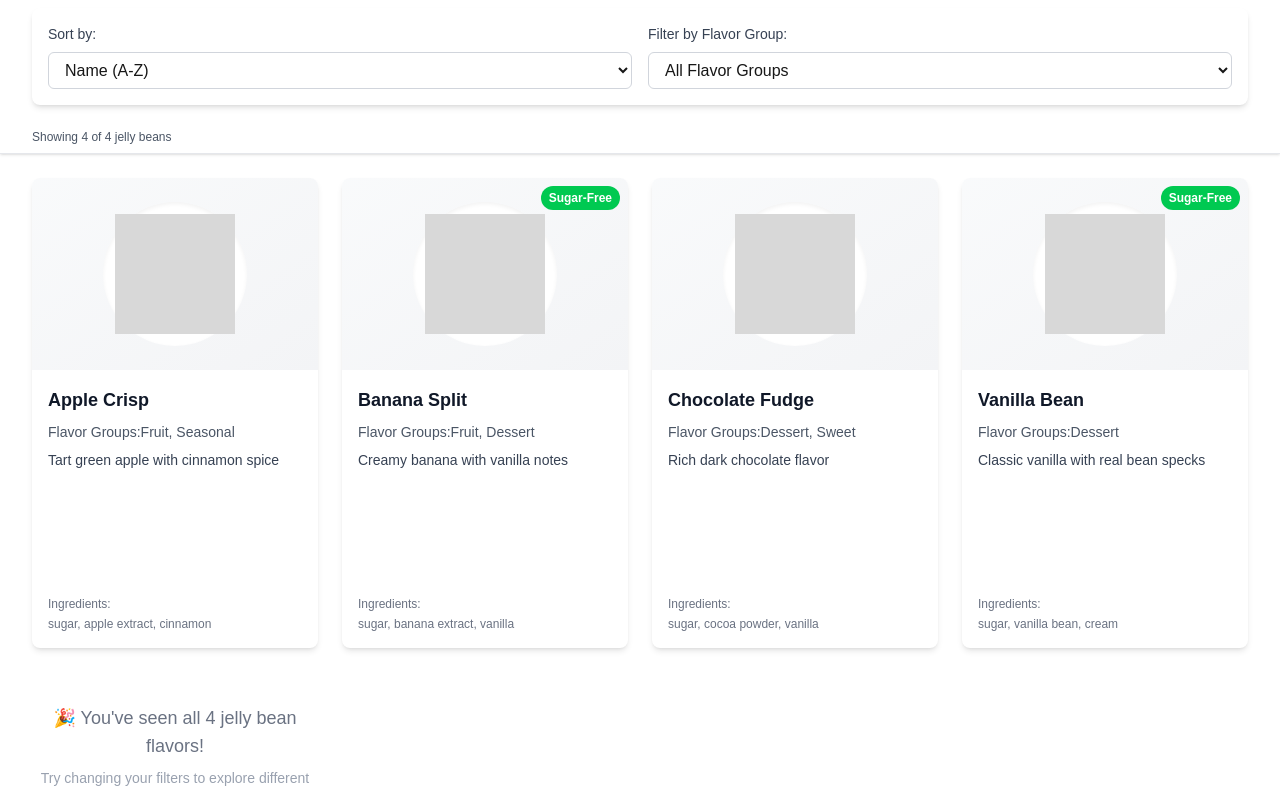
Test case: InfiniteJellyBeanList Integration Tests › Real Component Integration › handles real sorting with actual component behavior
Expected: the element that starts with "Apple Crisp" is shown, [48, 390, 149, 410]
Expected: the element that starts with "Sugar-Free" shows "Banana Split", [358, 390, 467, 410]
# Change sort to Z-A
Select "Name (Z-A)" in the dropdown labelled "Sort by:" at (340, 70), box [48, 52, 632, 89]
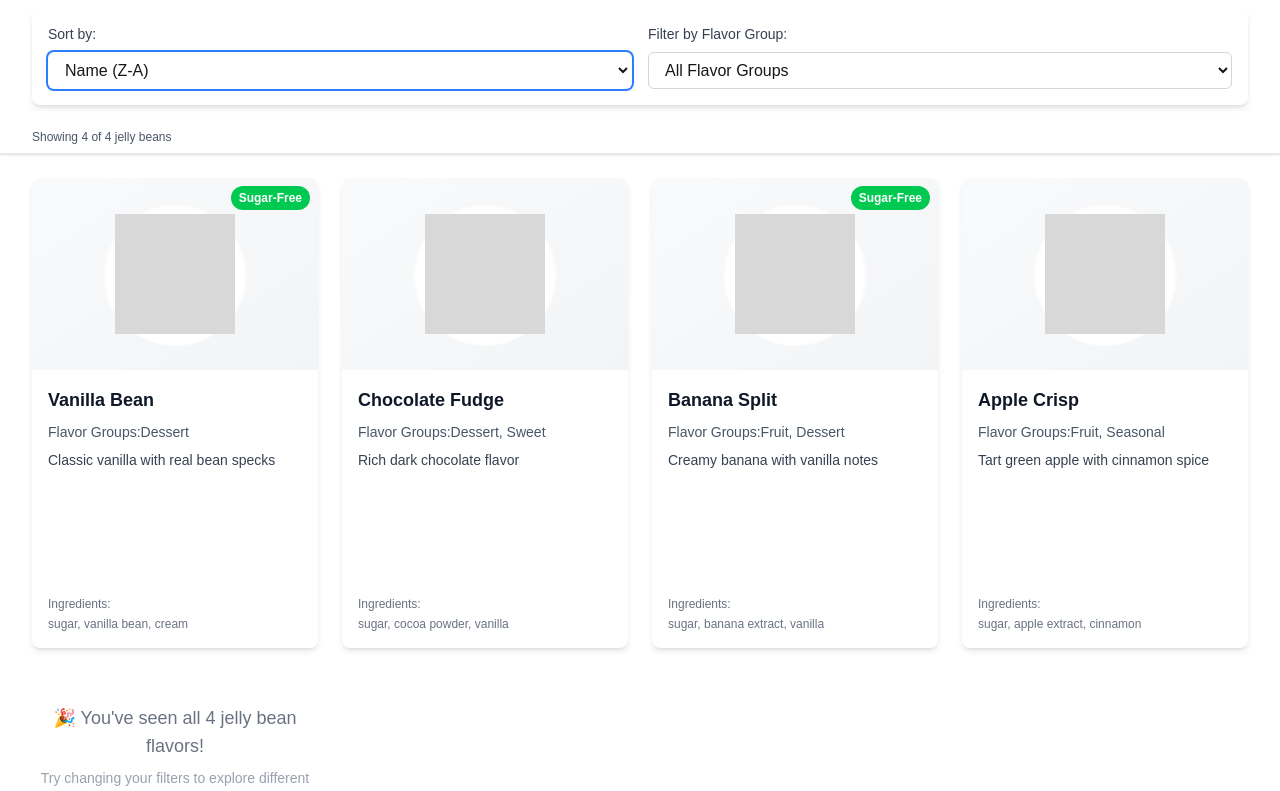
Result: the element that starts with "Sugar-Free" shows "Vanilla Bean" at [48, 390, 154, 410]
Result: the element that starts with "Chocolate Fudge" is shown at [358, 390, 504, 410]
Result: the element that starts with "Sugar-Free" shows "Banana Split" at [668, 390, 777, 410]
